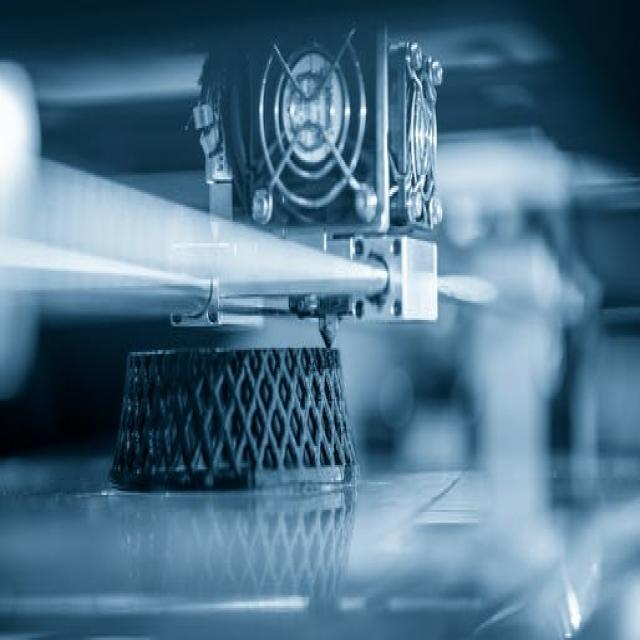Without deffect: (99, 297, 372, 525)
